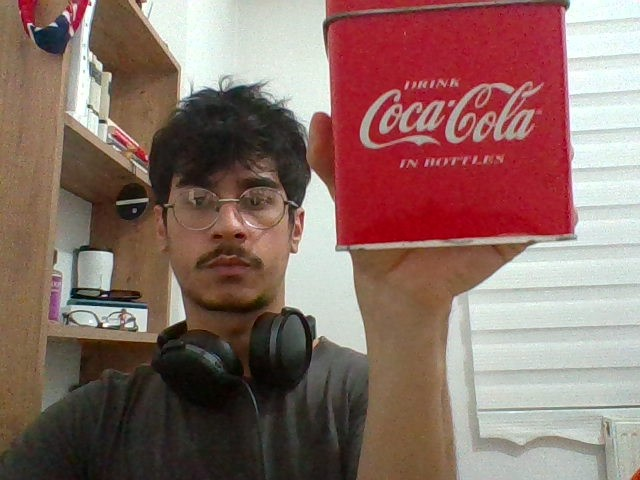CocaColaBox: (323, 1, 576, 253)
